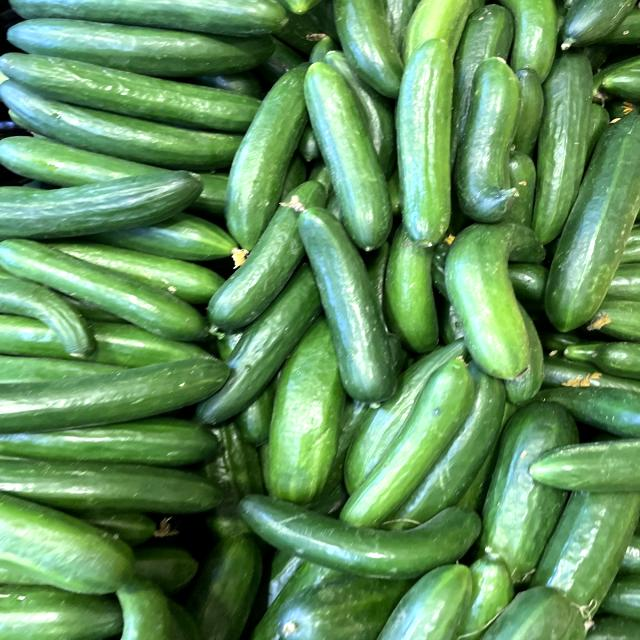cucumber: (266, 197, 414, 410), (292, 49, 408, 260), (384, 33, 476, 256)
